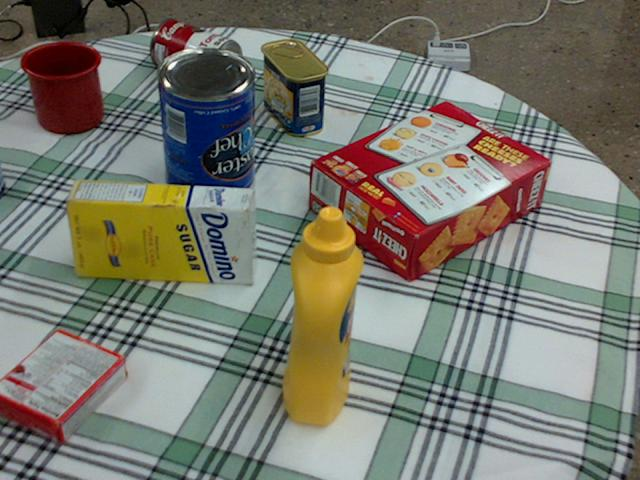cracker_box: (310, 101, 550, 282)
gelatin_box: (0, 328, 126, 442)
master_chef_can: (155, 48, 253, 205)
mug: (22, 41, 104, 131)
mustard_bottle: (283, 206, 363, 423)
potted_meat_can: (259, 39, 327, 135)
sugar_box: (64, 179, 255, 284)
tomato_soup_can: (150, 18, 240, 87)
tuna_fish_can: (0, 167, 4, 194)
